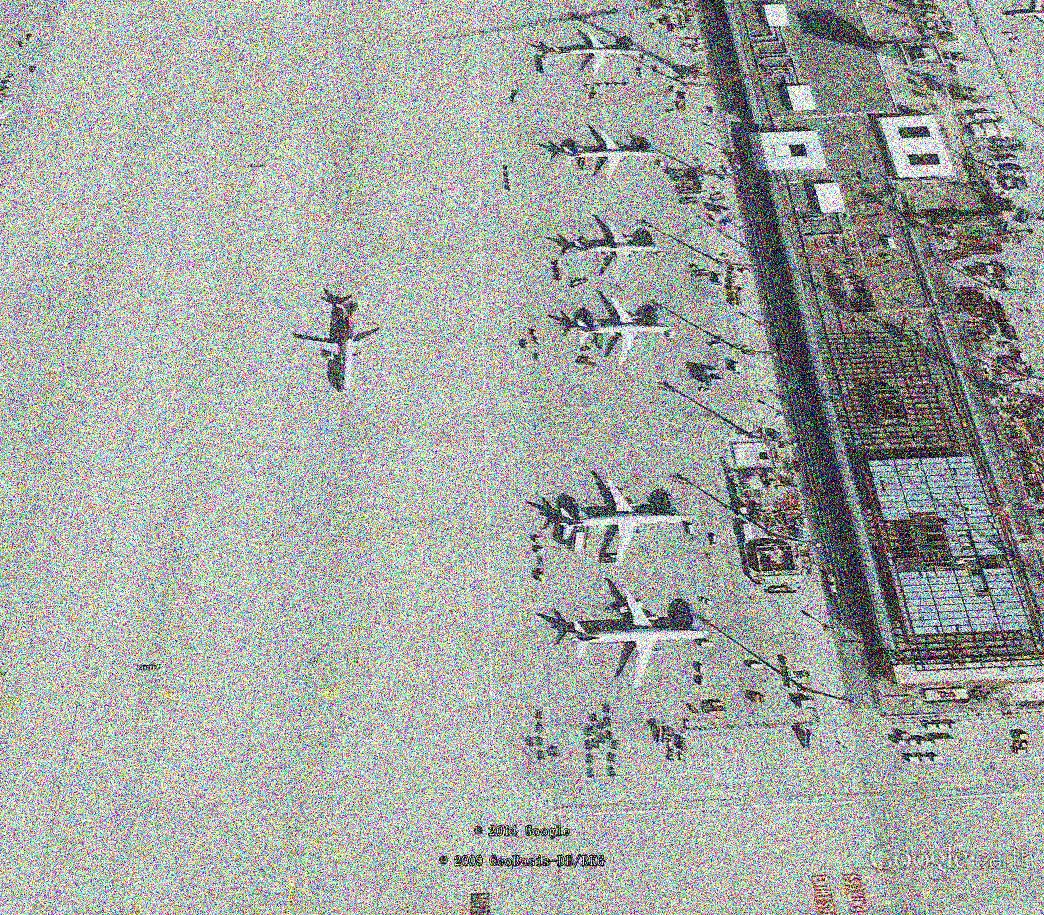aircraft: (565, 583, 715, 699), (550, 475, 693, 570), (289, 300, 391, 400), (568, 295, 676, 370), (561, 217, 666, 285), (555, 124, 660, 187), (541, 24, 646, 85)
